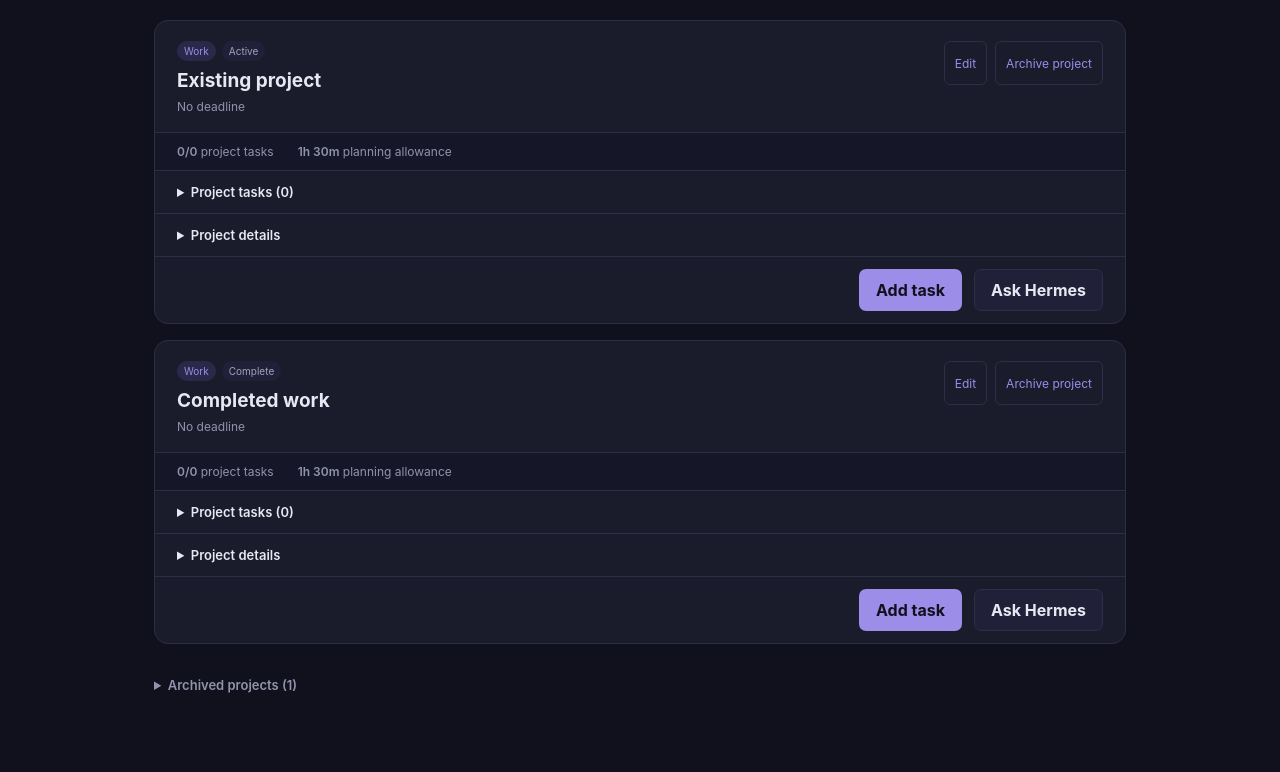
Test: archive disclosure is closed after the primary list and counts only archived projects
This screenshot has width=1280, height=772.
(page scrolled)
Expected: the heading "Existing project" is shown, left=177, top=68, right=321, bottom=94
Expected: the heading "Completed work" is shown, left=177, top=388, right=330, bottom=414
Click the heading "Archived projects (1)": (232, 685) left=168, top=677, right=297, bottom=693
(page scrolled)
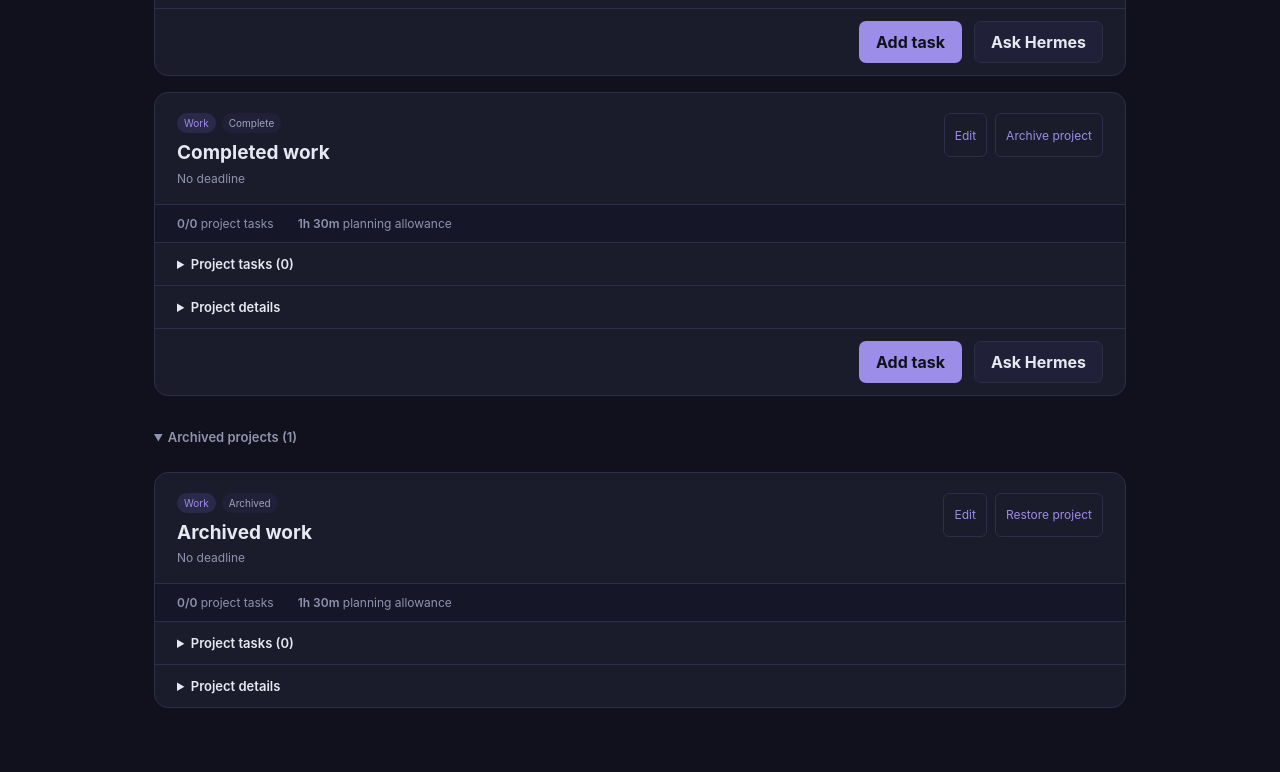
Expected: the heading "Archived work" is shown, left=177, top=520, right=312, bottom=545
